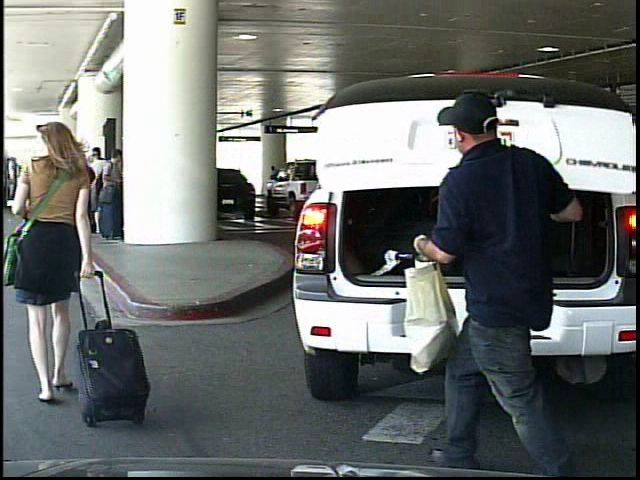person: (404, 86, 587, 474), (3, 119, 116, 428), (266, 163, 283, 205)
